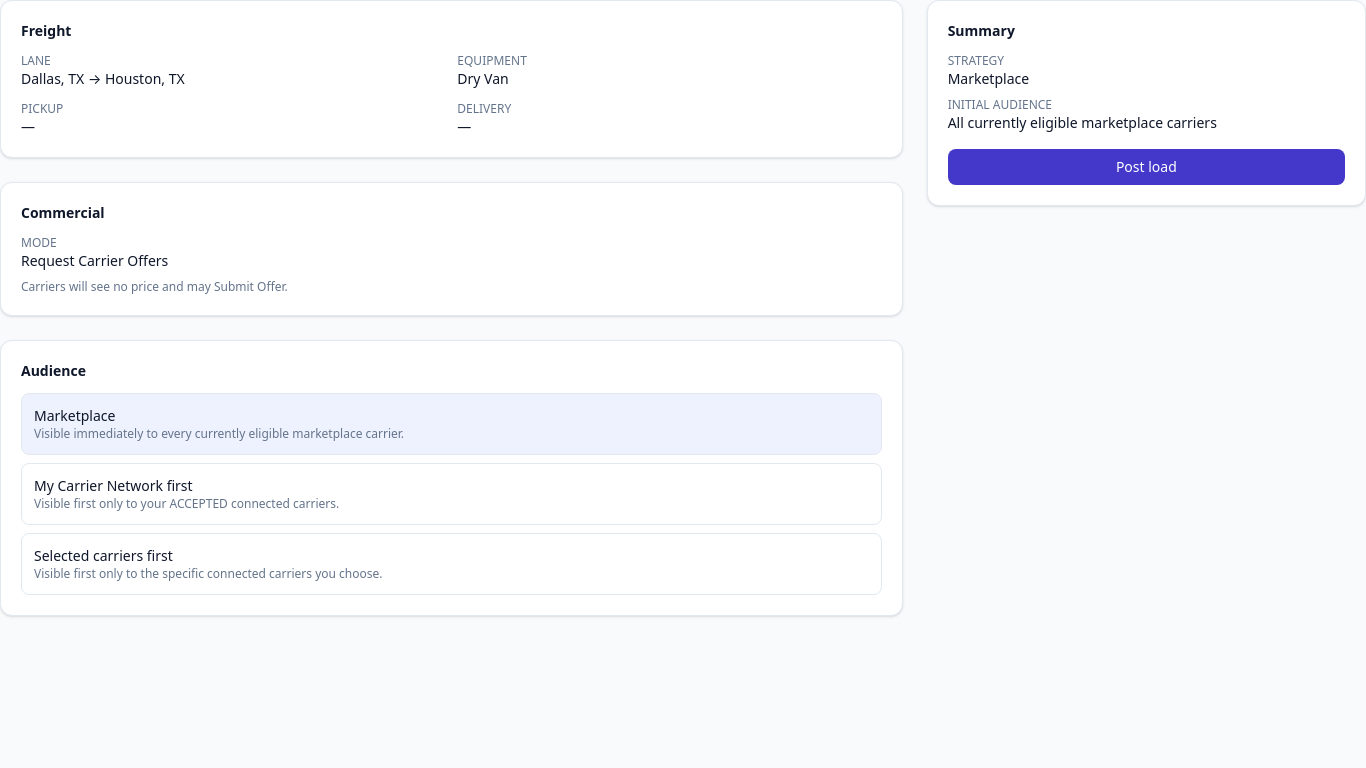
Scenario: ReviewPostForm › Selected Carriers First stays disabled until a carrier is chosen
The width and height of the screenshot is (1366, 768).
Click the button "Selected carriers first" at (103, 556), box left=21, top=533, right=882, bottom=595
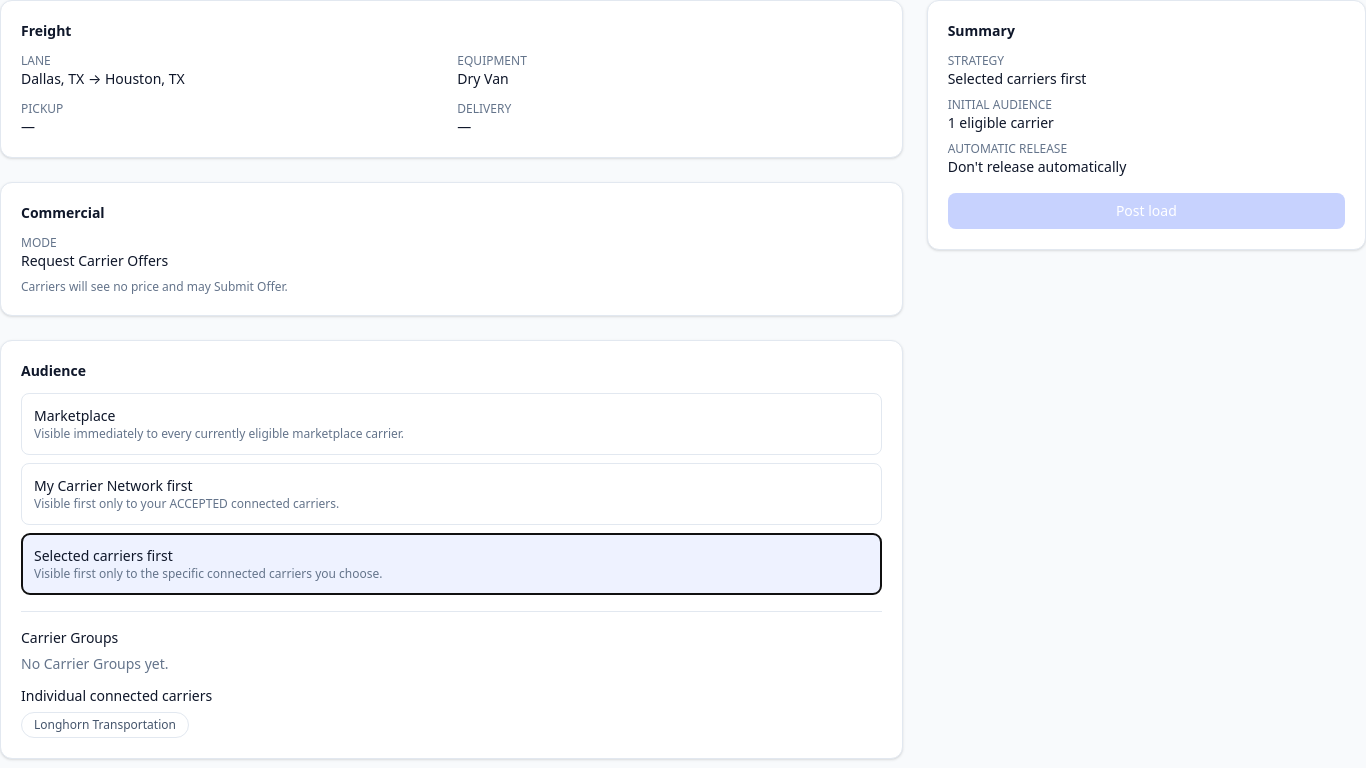
Check: the button "Post load" is disabled, box left=948, top=193, right=1345, bottom=229
Click the button "Longhorn Transportation" at (105, 725), box left=21, top=712, right=189, bottom=738
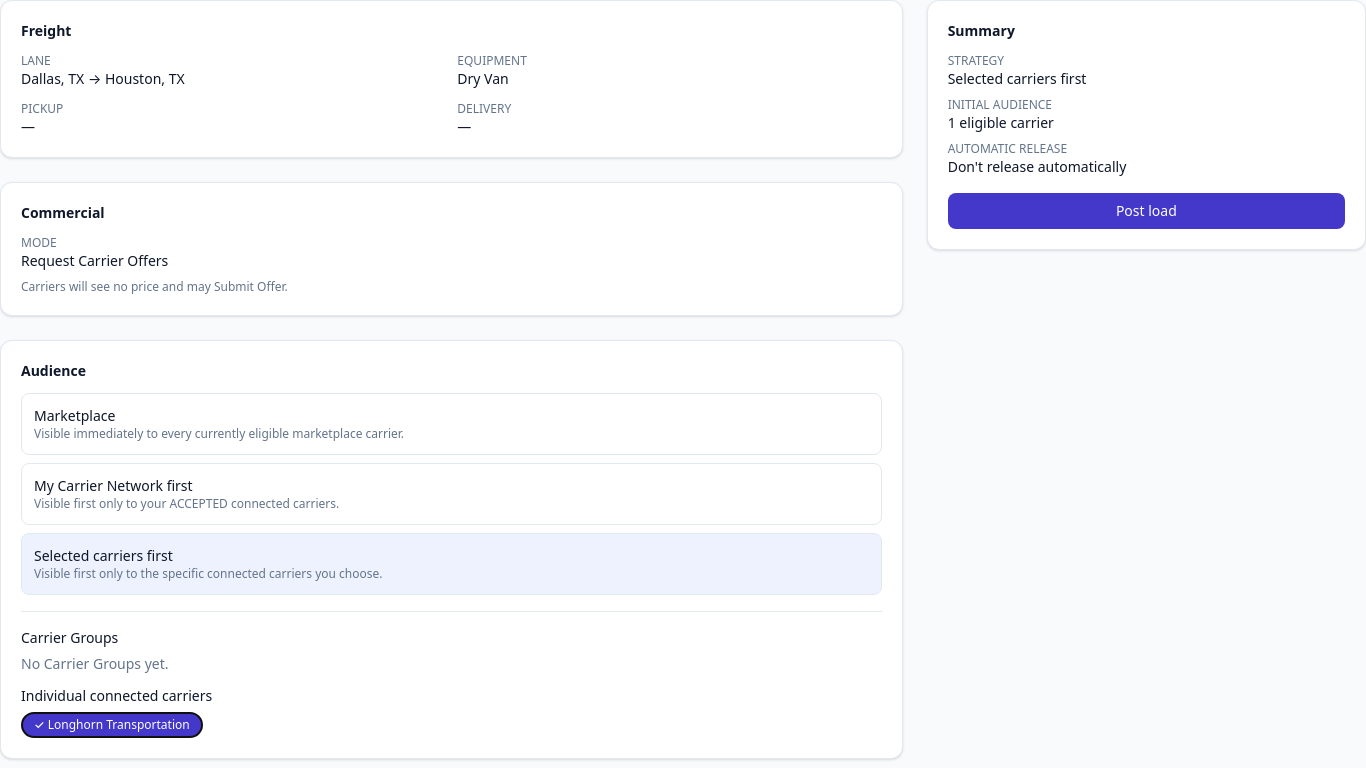
Check: the button "Post load" is enabled, box left=948, top=193, right=1345, bottom=229
